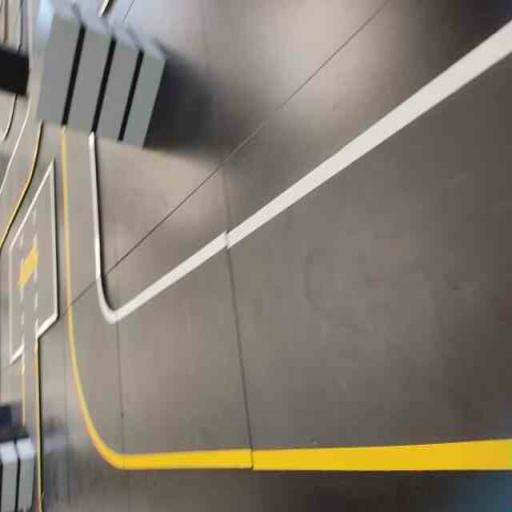straight: (223, 10, 511, 508)
